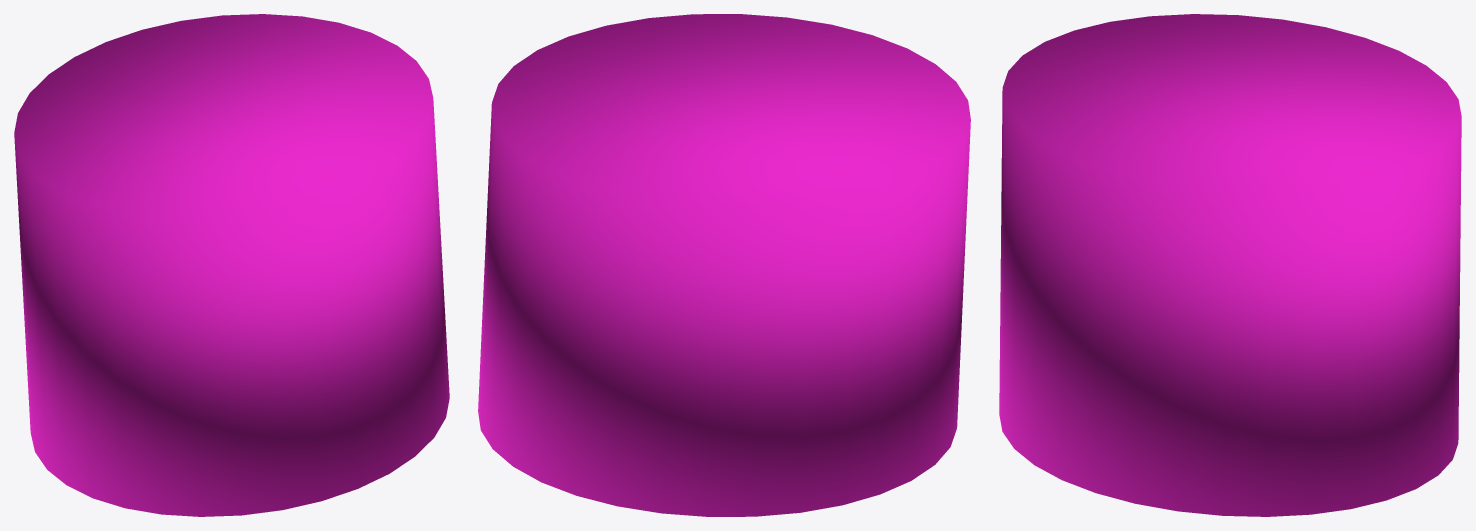
3 renders of one model, left to right at view 1: azimuth 30°, elevation 25°; view 2: azimuth 150°, elevation 25°; view 3: azimuth 270°, elevation 25°, orthographic. The views are drawn at different scales.
Parts seen in each view (by area): view 1: 円柱; view 2: 円柱; view 3: 円柱.
Boxes of the visible parts, x1,y1,x2,y2 form: 円柱: (14, 14, 449, 516); 円柱: (478, 14, 970, 516); 円柱: (999, 14, 1461, 516).
Size of the model in its own units: 366 by 284 by 349.
